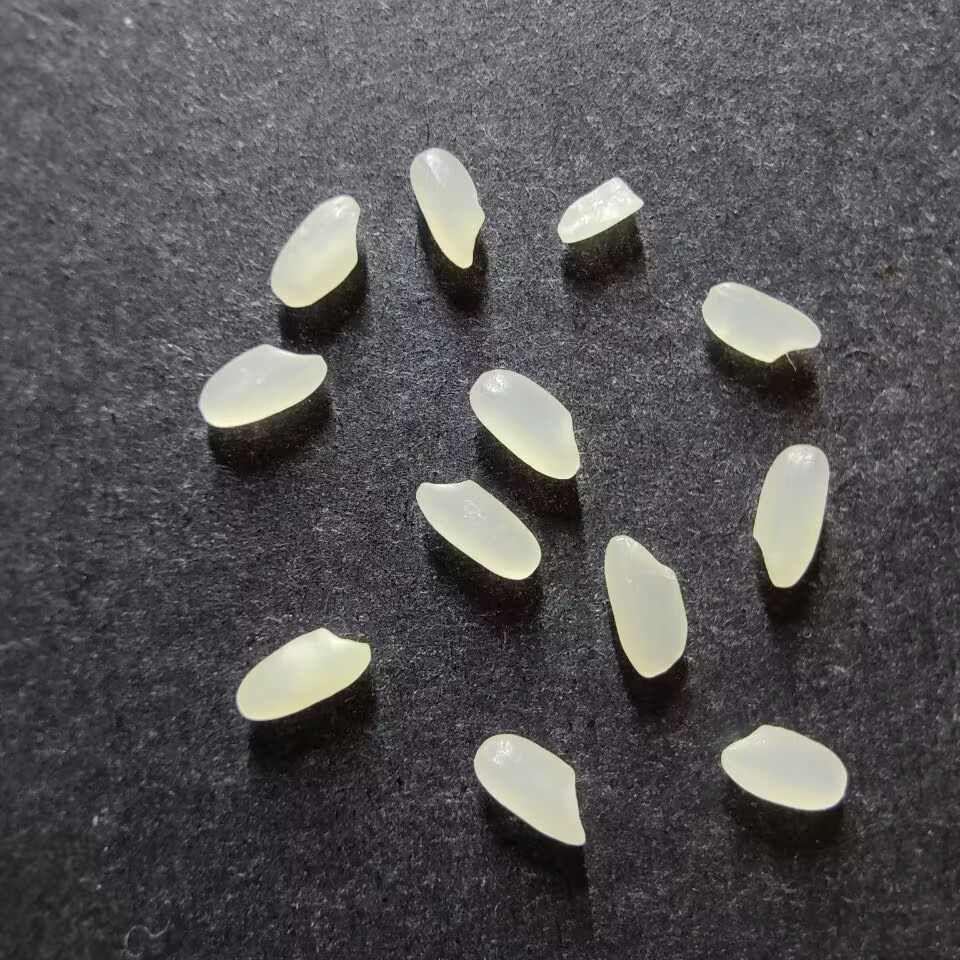broken: (556, 176, 643, 244)
rice: (473, 733, 586, 847), (235, 627, 372, 721), (415, 479, 540, 580), (468, 368, 580, 480), (603, 534, 688, 678), (751, 444, 829, 588), (720, 724, 847, 811), (198, 343, 327, 428), (269, 194, 360, 308), (701, 281, 821, 363), (408, 147, 485, 269)
